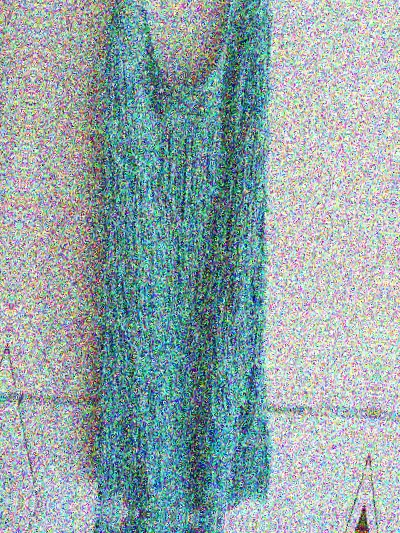Dress: (34, 0, 329, 513), (0, 518, 276, 533), (0, 0, 4, 482)
